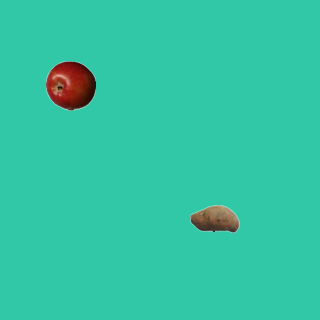Apple Braeburn: (45, 60, 95, 110)
Potato Sweet: (189, 193, 239, 243)
